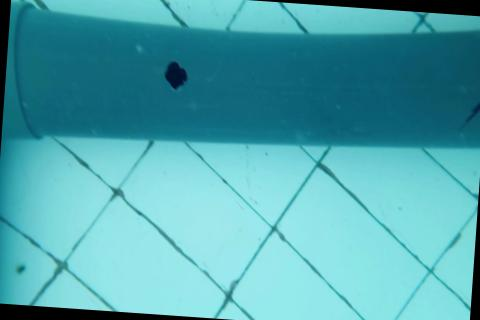kebocoran: (162, 59, 189, 93)
keretakan: (462, 93, 480, 130)
